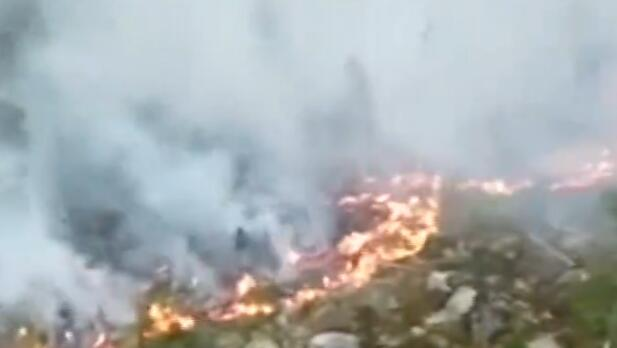fire: (143, 173, 446, 336), (445, 150, 616, 199)
smoke: (2, 0, 617, 330)
